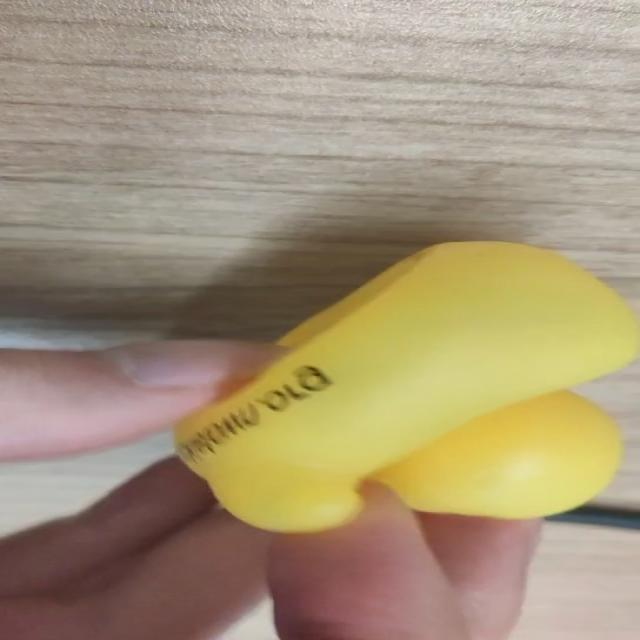rubber-duck: (174, 241, 637, 530), (452, 432, 619, 515)
